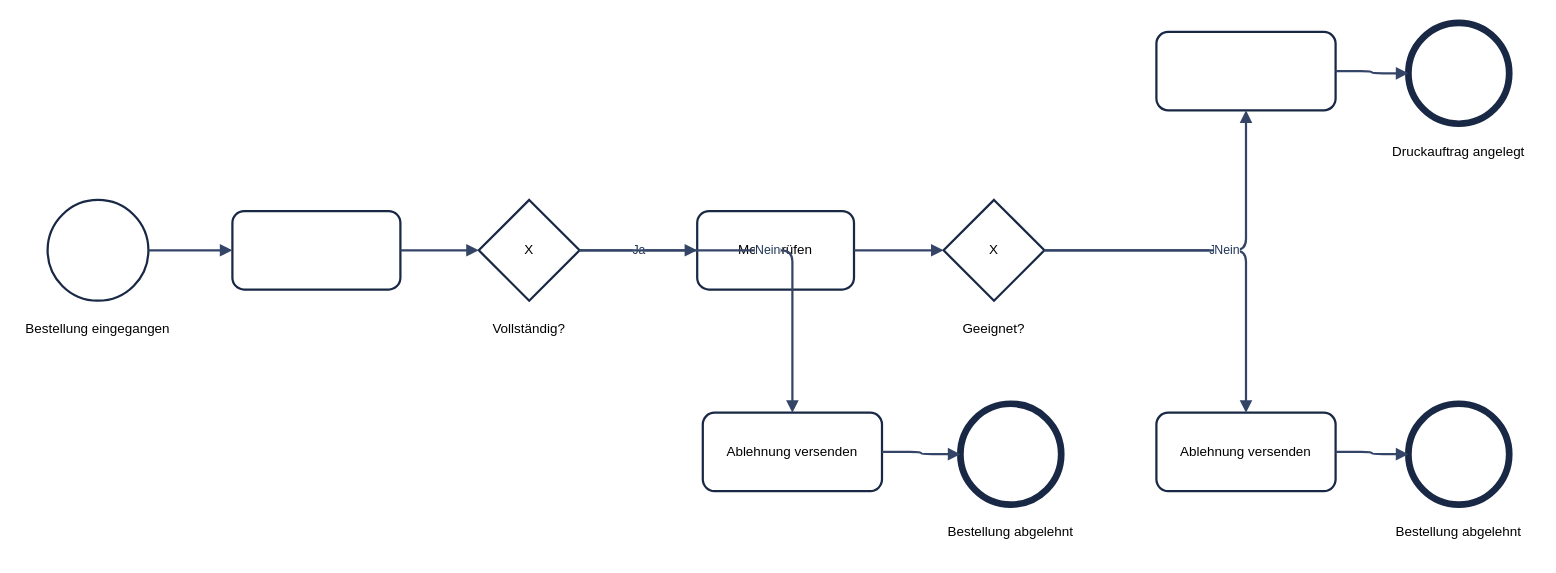
The diagram is 1556 pixels wide and 573 high, and some of its shapes have lost their labels. The shapes that lost their labels are listed below. From the top down, each one's centre as x and y in pixels, then its label:
(x=1245, y=70): Druckauftrag anlegen
(x=316, y=249): Bestelldaten prüfen
